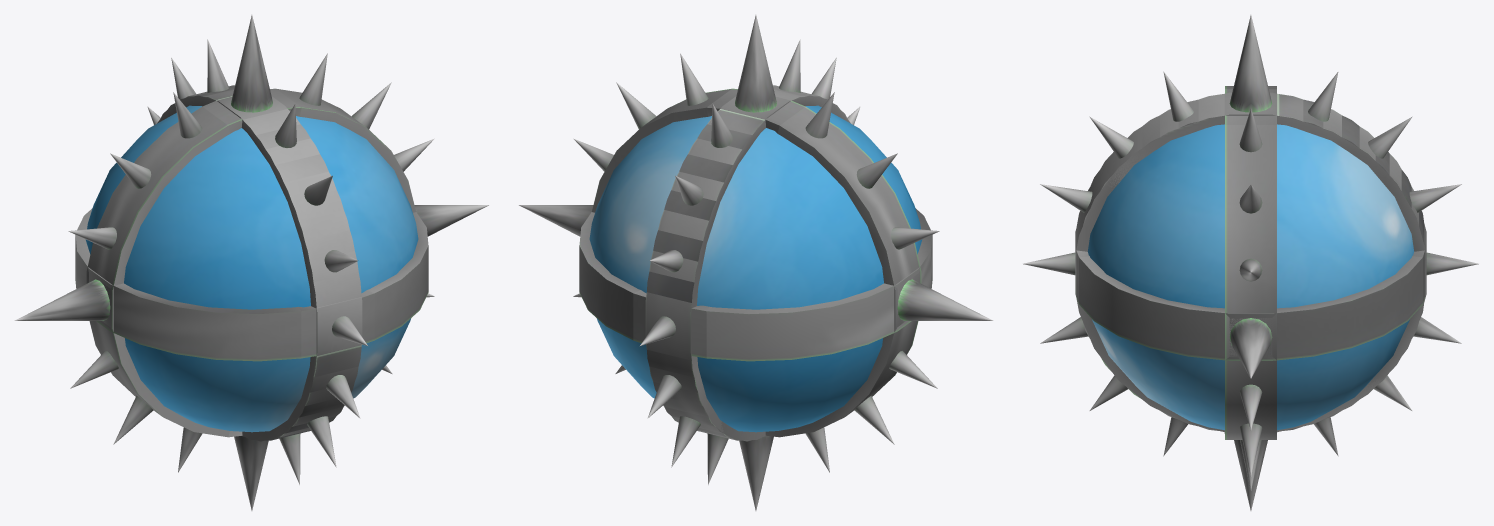
The model's file is bola_pinchos.FBX.
3 views of the same model, side by side, from view 1: azimuth 30°, elevation 25°; view 2: azimuth 150°, elevation 25°; view 3: azimuth 270°, elevation 25° (orthographic).
Visible parts, largest first — view 1: Sphere001; view 2: Sphere001; view 3: Sphere001.
Part boxes in pixels (<box>): Sphere001: <box>14,15,488,510</box>; Sphere001: <box>519,15,993,510</box>; Sphere001: <box>1023,15,1478,510</box>.
Bounding box in the file's own units: 97.04 × 97.04 × 80.87.
Materials: 1 (1 with a texture image).
